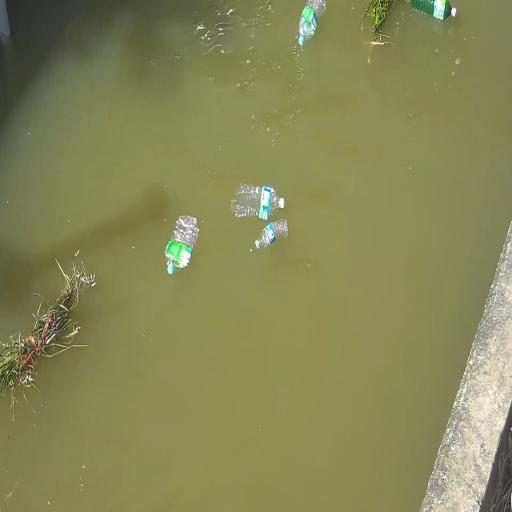plastic: (164, 218, 204, 278), (227, 182, 290, 216), (287, 0, 326, 49), (248, 220, 289, 251), (405, 0, 459, 23)
twig: (0, 257, 85, 386), (363, 0, 400, 46)
